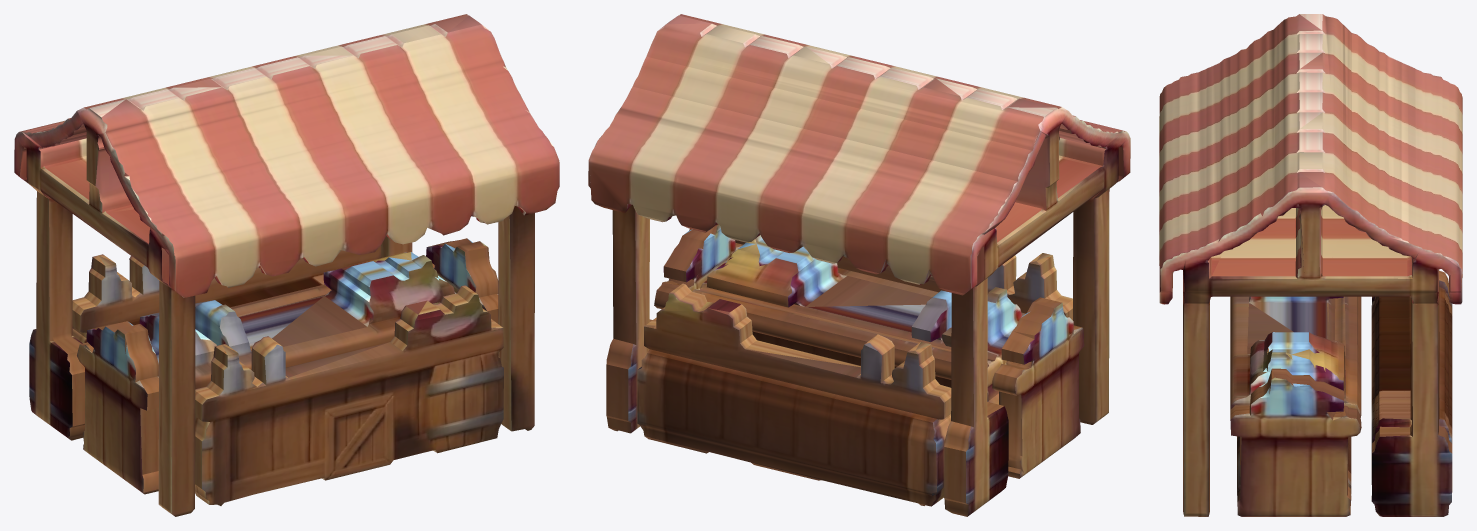
Rendered from town-stall-red.glb.
The picture shows the model from 3 angles, left to right: view 1: azimuth 30°, elevation 25°; view 2: azimuth 150°, elevation 25°; view 3: azimuth 270°, elevation 25°; orthographic projection. The views are drawn at different scales.
Visible parts, largest first — view 1: piece; view 2: piece; view 3: piece.
Part boxes in pixels (<box>): piece: <box>14,14,559,516</box>; piece: <box>588,14,1130,516</box>; piece: <box>1159,14,1462,516</box>.
Bounding box in the file's own units: 3.18 × 2.8 × 2.29.
Materials: 1 (1 with a texture image).
